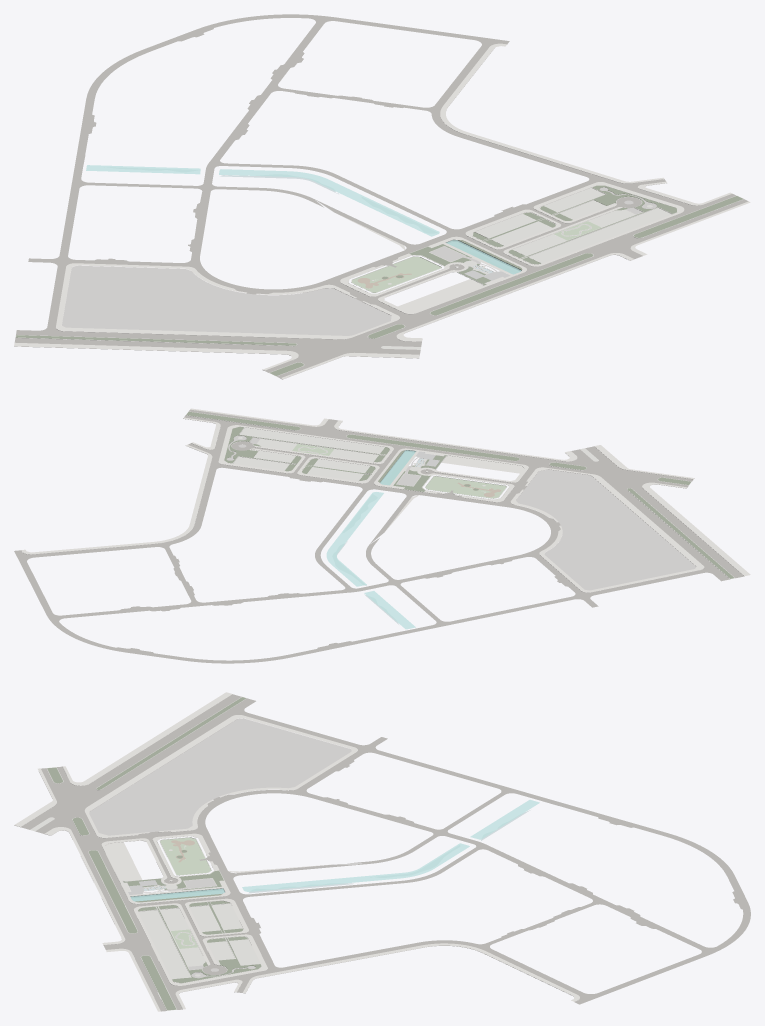
The picture shows the model from 3 angles, top to bottom: view 1: azimuth 30°, elevation 25°; view 2: azimuth 150°, elevation 25°; view 3: azimuth 270°, elevation 25°; orthographic projection. The views are drawn at different scales.
Parts seen in each view (by area): view 1: Mesh9 Group1 Model_1 Mesh9 Group1 Model_3 Mesh9 Group1 Model, Mesh9 Group1 Model_4 Mesh9 Group1 Model_23 Mesh9 Group1 Mode, Mesh9 Group1 Model Mesh9 Group1 Model_2 Mesh9 Group1 Model_5, Mesh9 Group1 Model_12 Mesh9 Group1 Model_17 Mesh9 Group1 Mod, Mesh9 Group1 Model_29 Mesh9 Group1 Model_38 Mesh9 Group1 Mod, Mesh6 Group2 Group1 Model Mesh7 Group2 Group1 Model Mesh8 Gr, Mesh9 Group1 Model_211 Mesh9 Group1 Model_213 Mesh9 Group1 M; view 2: Mesh9 Group1 Model_1 Mesh9 Group1 Model_3 Mesh9 Group1 Model, Mesh9 Group1 Model_4 Mesh9 Group1 Model_23 Mesh9 Group1 Mode, Mesh9 Group1 Model Mesh9 Group1 Model_2 Mesh9 Group1 Model_5, Mesh9 Group1 Model_12 Mesh9 Group1 Model_17 Mesh9 Group1 Mod, Mesh9 Group1 Model_29 Mesh9 Group1 Model_38 Mesh9 Group1 Mod, Mesh6 Group2 Group1 Model Mesh7 Group2 Group1 Model Mesh8 Gr, Mesh9 Group1 Model_211 Mesh9 Group1 Model_213 Mesh9 Group1 M; view 3: Mesh9 Group1 Model_1 Mesh9 Group1 Model_3 Mesh9 Group1 Model, Mesh9 Group1 Model_4 Mesh9 Group1 Model_23 Mesh9 Group1 Mode, Mesh9 Group1 Model Mesh9 Group1 Model_2 Mesh9 Group1 Model_5, Mesh9 Group1 Model_12 Mesh9 Group1 Model_17 Mesh9 Group1 Mod, Mesh9 Group1 Model_29 Mesh9 Group1 Model_38 Mesh9 Group1 Mod, Mesh6 Group2 Group1 Model Mesh7 Group2 Group1 Model Mesh8 Gr, Mesh9 Group1 Model_211 Mesh9 Group1 Model_213 Mesh9 Group1 M.
Boxes of the visible parts, x1,y1,x2,y2 form: Mesh9 Group1 Model_1 Mesh9 Group1 Model_3 Mesh9 Group1 Model: (14, 14, 748, 378); Mesh9 Group1 Model_4 Mesh9 Group1 Model_23 Mesh9 Group1 Mode: (62, 187, 656, 335); Mesh9 Group1 Model Mesh9 Group1 Model_2 Mesh9 Group1 Model_5: (14, 43, 750, 379); Mesh9 Group1 Model_12 Mesh9 Group1 Model_17 Mesh9 Group1 Mod: (15, 185, 744, 376); Mesh9 Group1 Model_29 Mesh9 Group1 Model_38 Mesh9 Group1 Mod: (16, 185, 742, 375); Mesh6 Group2 Group1 Model Mesh7 Group2 Group1 Model Mesh8 Gr: (86, 165, 521, 274); Mesh9 Group1 Model_211 Mesh9 Group1 Model_213 Mesh9 Group1 M: (352, 221, 600, 292); Mesh9 Group1 Model_1 Mesh9 Group1 Model_3 Mesh9 Group1 Model: (14, 409, 743, 663); Mesh9 Group1 Model_4 Mesh9 Group1 Model_23 Mesh9 Group1 Mode: (226, 435, 696, 590); Mesh9 Group1 Model Mesh9 Group1 Model_2 Mesh9 Group1 Model_5: (21, 408, 750, 592); Mesh9 Group1 Model_12 Mesh9 Group1 Model_17 Mesh9 Group1 Mod: (185, 411, 734, 579); Mesh9 Group1 Model_29 Mesh9 Group1 Model_38 Mesh9 Group1 Mod: (186, 412, 734, 578); Mesh6 Group2 Group1 Model Mesh7 Group2 Group1 Model Mesh8 Gr: (326, 450, 415, 629); Mesh9 Group1 Model_211 Mesh9 Group1 Model_213 Mesh9 Group1 M: (292, 444, 506, 498); Mesh9 Group1 Model_1 Mesh9 Group1 Model_3 Mesh9 Group1 Model: (21, 694, 750, 1011); Mesh9 Group1 Model_4 Mesh9 Group1 Model_23 Mesh9 Group1 Mode: (89, 718, 351, 978); Mesh9 Group1 Model Mesh9 Group1 Model_2 Mesh9 Group1 Model_5: (14, 692, 579, 1011); Mesh9 Group1 Model_12 Mesh9 Group1 Model_17 Mesh9 Group1 Mod: (30, 696, 261, 1010); Mesh9 Group1 Model_29 Mesh9 Group1 Model_38 Mesh9 Group1 Mod: (47, 697, 261, 1010); Mesh6 Group2 Group1 Model Mesh7 Group2 Group1 Model Mesh8 Gr: (130, 799, 539, 901); Mesh9 Group1 Model_211 Mesh9 Group1 Model_213 Mesh9 Group1 M: (160, 837, 210, 948).
Bounding box in the file's own units: 710609 × 2202 × 692866.
